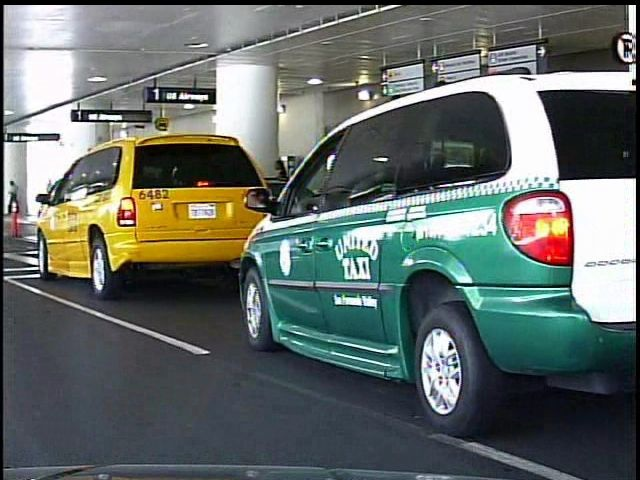person: (7, 179, 20, 206)
